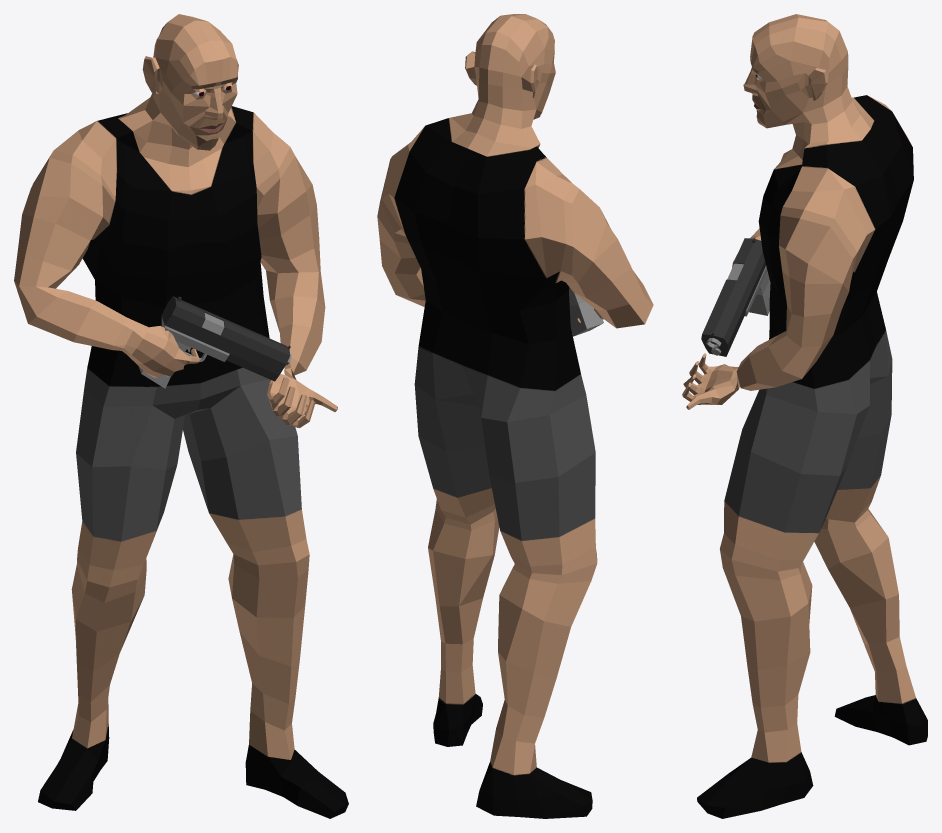
File: PlayerIdle(197).obj
3 renders of one model, left to right at view 1: azimuth 30°, elevation 25°; view 2: azimuth 150°, elevation 25°; view 3: azimuth 270°, elevation 25°, orthographic. The views are drawn at different scales.
Parts seen in each view (by area): view 1: Plane002, Box003; view 2: Plane002, Box003; view 3: Plane002, Box003.
Boxes of the visible parts, <box> form: Plane002: <box>14,14,348,818</box>; Box003: <box>138,296,291,388</box>; Plane002: <box>377,14,653,818</box>; Box003: <box>569,287,603,336</box>; Plane002: <box>682,14,927,818</box>; Box003: <box>701,238,770,356</box>.
Bounding box in the file's own units: 686 × 1798 × 536.
